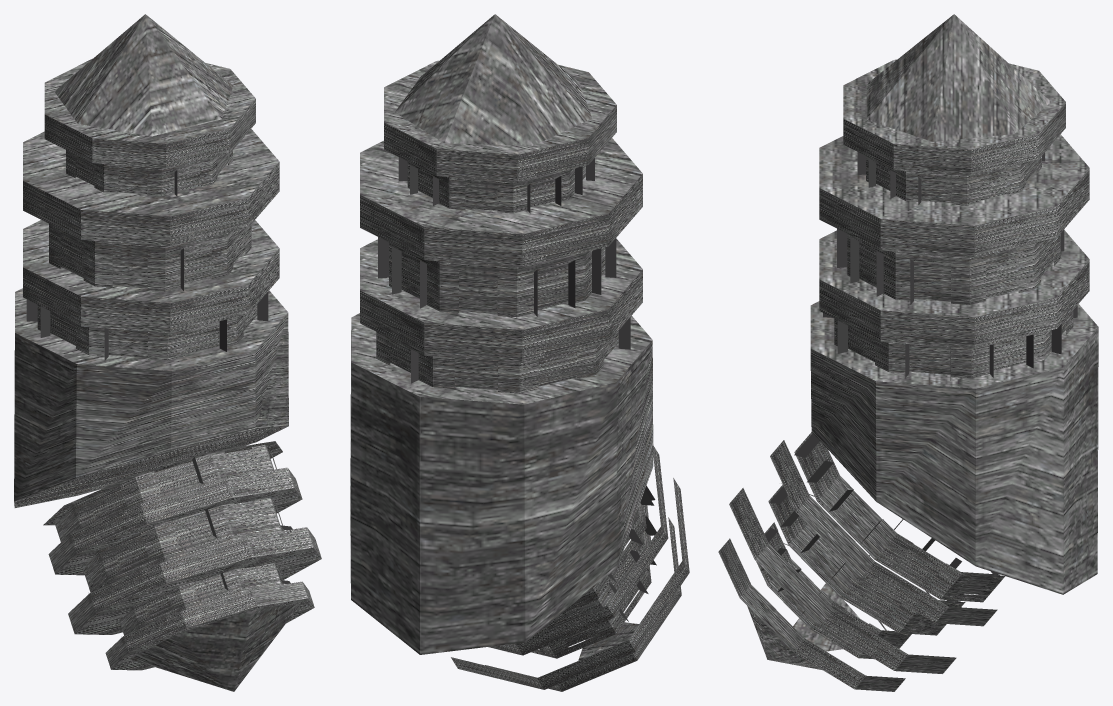
File: Model_Build1.gltf
3 views of the same model, side by side, from view 1: azimuth 30°, elevation 25°; view 2: azimuth 150°, elevation 25°; view 3: azimuth 270°, elevation 25° (orthographic). The views are drawn at different scales.
Parts seen in each view (by area): view 1: Cylinder; view 2: Cylinder; view 3: Cylinder.
Boxes of the visible parts, x1,y1,x2,y2 form: Cylinder: (14,14,321,691); Cylinder: (350,14,689,691); Cylinder: (718,14,1098,691).
Size of the model in its own units: 3.11 by 7.69 by 4.01.
Materials: 1 (1 with a texture image).
